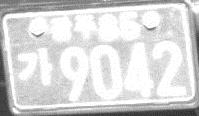0: (89, 43, 124, 100)
2: (151, 39, 188, 98)
4: (123, 42, 155, 99)
5: (118, 10, 142, 42)
8: (96, 13, 121, 45)
9: (58, 45, 90, 103)
가: (15, 45, 56, 88)
광주_O: (47, 13, 97, 45)
